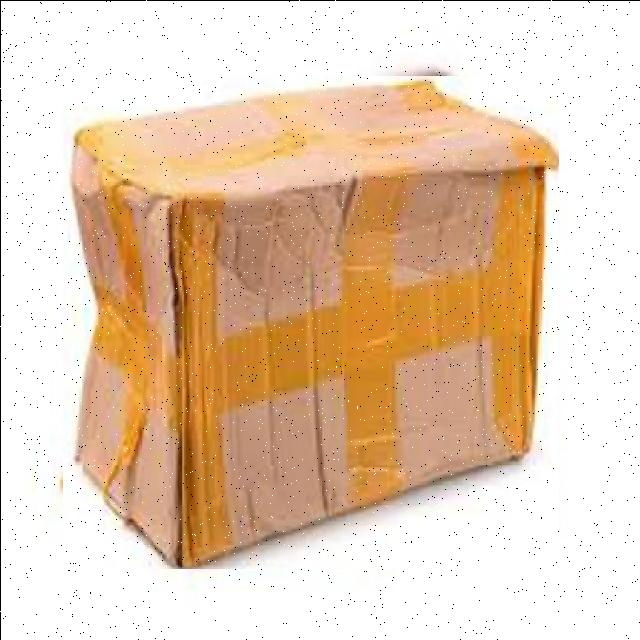normal: (62, 75, 558, 568)
